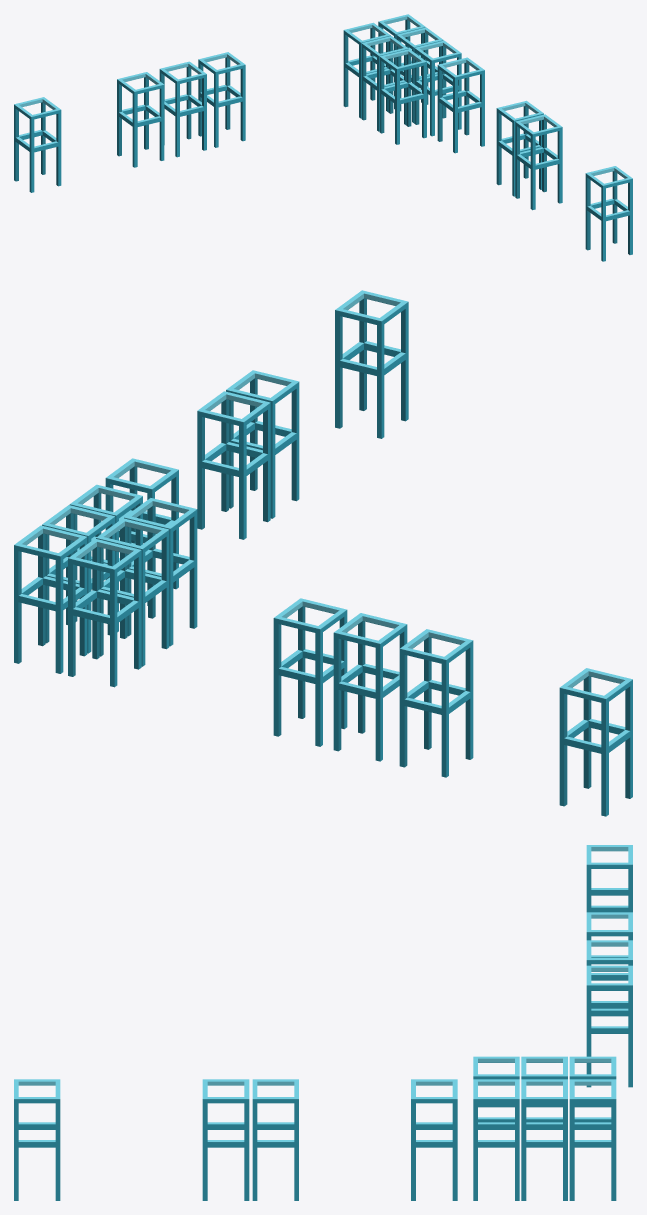
File: cangku_02.FBX
3 renders of one model, top to bottom at view 1: azimuth 30°, elevation 25°; view 2: azimuth 150°, elevation 25°; view 3: azimuth 270°, elevation 25°, orthographic. The views are drawn at different scales.
Visible parts, largest first — view 1: cangku_02; view 2: cangku_02; view 3: cangku_02.
Boxes of the visible parts, x1,y1,x2,y2 form: cangku_02: (14, 14, 632, 261); cangku_02: (14, 290, 632, 816); cangku_02: (14, 845, 632, 1200).
Size of the model in its own units: 32.93 by 6.16 by 33.9.
Materials: 1 (1 with a texture image).
